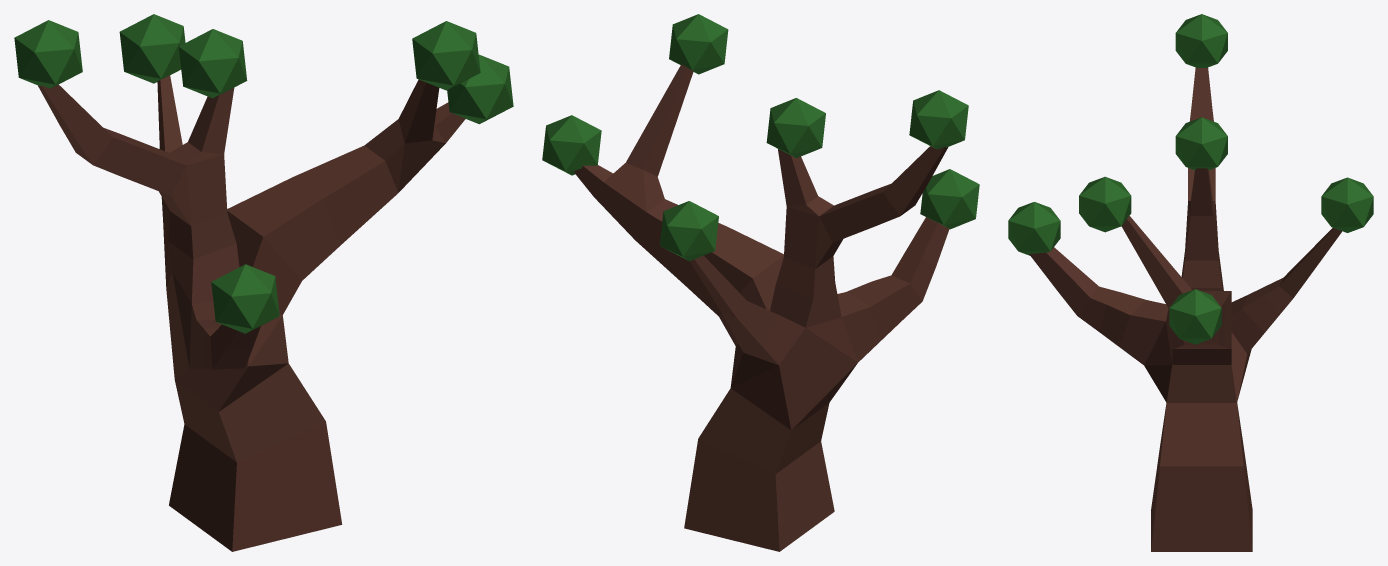
Rendered from Spring_Tree.fbx.
The picture shows the model from 3 angles, left to right: view 1: azimuth 30°, elevation 25°; view 2: azimuth 150°, elevation 25°; view 3: azimuth 270°, elevation 25°; orthographic projection. The views are drawn at different scales.
Visible parts, largest first — view 1: Vert.004, Icosphere.018, Icosphere.021, Icosphere.019, Icosphere.020, Icosphere.023, Icosphere.022; view 2: Vert.004, Icosphere.023, Icosphere.019, Icosphere.018, Icosphere.020, Icosphere.021, Icosphere.022; view 3: Vert.004, Icosphere.022, Icosphere.018, Icosphere.023, Icosphere.020, Icosphere.019, Icosphere.021.
Boxes of the visible parts, bbox=[...] form: Vert.004: bbox=[38, 75, 465, 551]; Icosphere.018: bbox=[412, 21, 480, 90]; Icosphere.021: bbox=[211, 264, 279, 333]; Icosphere.019: bbox=[178, 29, 247, 98]; Icosphere.020: bbox=[14, 20, 82, 88]; Icosphere.023: bbox=[119, 14, 185, 83]; Icosphere.022: bbox=[447, 54, 513, 124]; Vert.004: bbox=[574, 64, 949, 551]; Icosphere.023: bbox=[659, 201, 718, 261]; Icosphere.019: bbox=[766, 98, 825, 158]; Icosphere.018: bbox=[669, 14, 728, 74]; Icosphere.020: bbox=[909, 90, 968, 149]; Icosphere.021: bbox=[920, 169, 979, 229]; Icosphere.022: bbox=[542, 115, 601, 175]; Vert.004: bbox=[1029, 67, 1342, 551]; Icosphere.022: bbox=[1169, 289, 1221, 344]; Icosphere.018: bbox=[1079, 176, 1131, 232]; Icosphere.023: bbox=[1321, 177, 1373, 232]; Icosphere.020: bbox=[1175, 14, 1227, 67]; Icosphere.019: bbox=[1175, 117, 1227, 170]; Icosphere.021: bbox=[1008, 202, 1060, 255].
Bounding box in the file's own units: 105 × 112 × 85.1.
